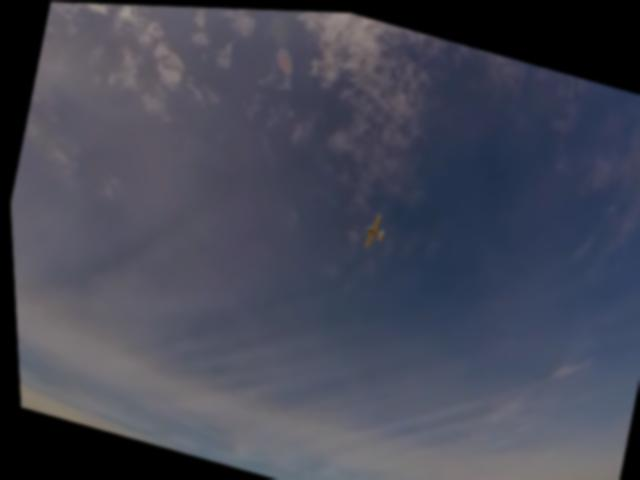plane: (358, 207, 387, 251)
